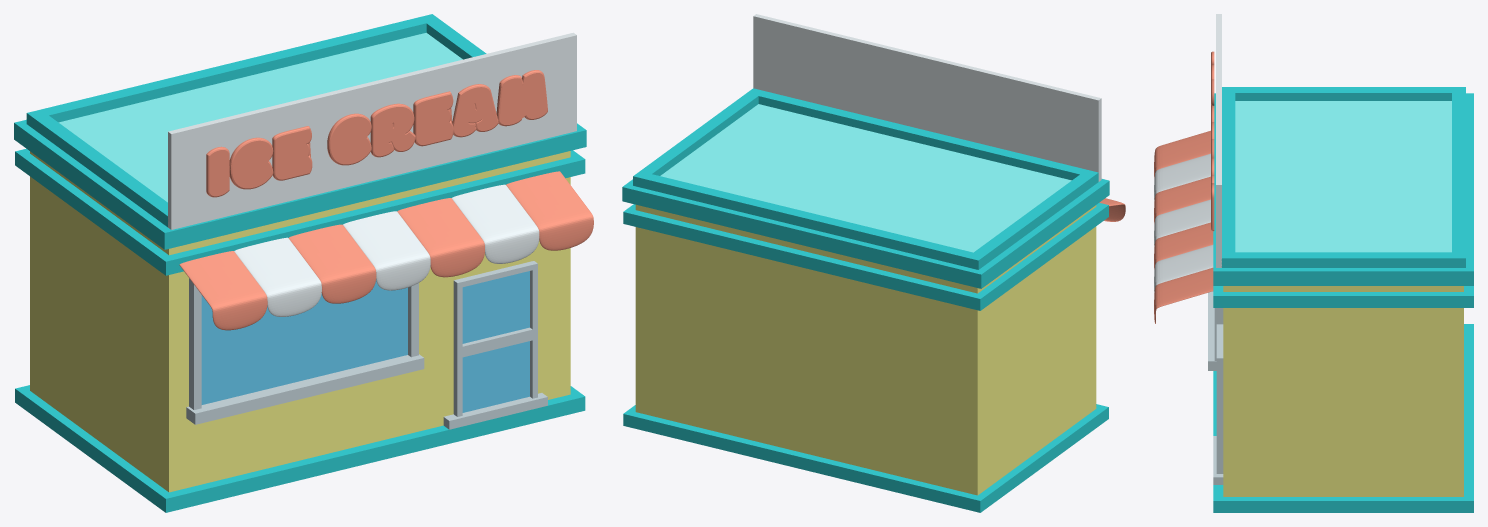
File: Shop-01.fbx
3 renders of one model, left to right at view 1: azimuth 30°, elevation 25°; view 2: azimuth 150°, elevation 25°; view 3: azimuth 270°, elevation 25°, orthographic. The views are drawn at different scales.
Visible parts, largest first — view 1: MAIN, Ledge_1, Loft_1, SIGN, WINDOW_1, DOOR_1, Trim_bottom, Trim_top, Cap_1_8, Cap_1_5, Cap_1_2, Cap_1_4 (+4 smaller); view 2: MAIN, Ledge_1, SIGN, Trim_bottom, Trim_top; view 3: Ledge_1, MAIN, Loft_1, Trim_bottom, Trim_top, SIGN, DOOR_1, WINDOW_1.
Part boxes in pixels (<box>): MAIN: <box>30,151,570,492</box>; Ledge_1: <box>14,14,586,249</box>; Loft_1: <box>179,171,593,330</box>; SIGN: <box>168,32,576,229</box>; WINDOW_1: <box>186,278,424,424</box>; DOOR_1: <box>443,261,547,429</box>; Trim_bottom: <box>15,385,585,512</box>; Trim_top: <box>15,148,585,275</box>; Cap_1_8: <box>500,73,546,124</box>; Cap_1_5: <box>374,107,414,156</box>; Cap_1_2: <box>232,140,272,188</box>; Cap_1_4: <box>330,116,370,164</box>; MAIN: <box>635,204,1096,495</box>; Ledge_1: <box>622,88,1109,288</box>; SIGN: <box>753,14,1101,181</box>; Trim_bottom: <box>623,404,1108,512</box>; Trim_top: <box>623,203,1108,310</box>; Ledge_1: <box>1213,87,1473,285</box>; MAIN: <box>1223,286,1463,496</box>; Loft_1: <box>1154,130,1213,323</box>; Trim_bottom: <box>1213,324,1473,512</box>; Trim_top: <box>1213,286,1473,307</box>; SIGN: <box>1216,14,1221,267</box>; DOOR_1: <box>1213,324,1223,484</box>; WINDOW_1: <box>1208,291,1223,370</box>.
Size of the model in its own units: 786 by 670 by 598.
